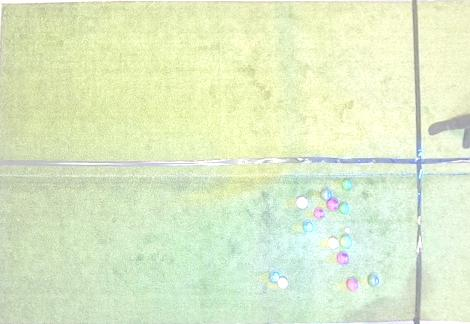blue: (303, 222, 314, 232), (270, 272, 279, 283)
green: (367, 274, 379, 287), (340, 236, 352, 248), (320, 190, 332, 201), (339, 203, 349, 214), (342, 179, 352, 190)
red: (346, 279, 358, 291), (337, 253, 349, 265), (327, 199, 339, 211), (297, 197, 308, 209), (314, 209, 324, 219)
vline: (411, 0, 469, 323), (0, 0, 4, 323)
white: (345, 228, 350, 233)
yellow: (328, 237, 338, 249), (278, 278, 288, 289)
